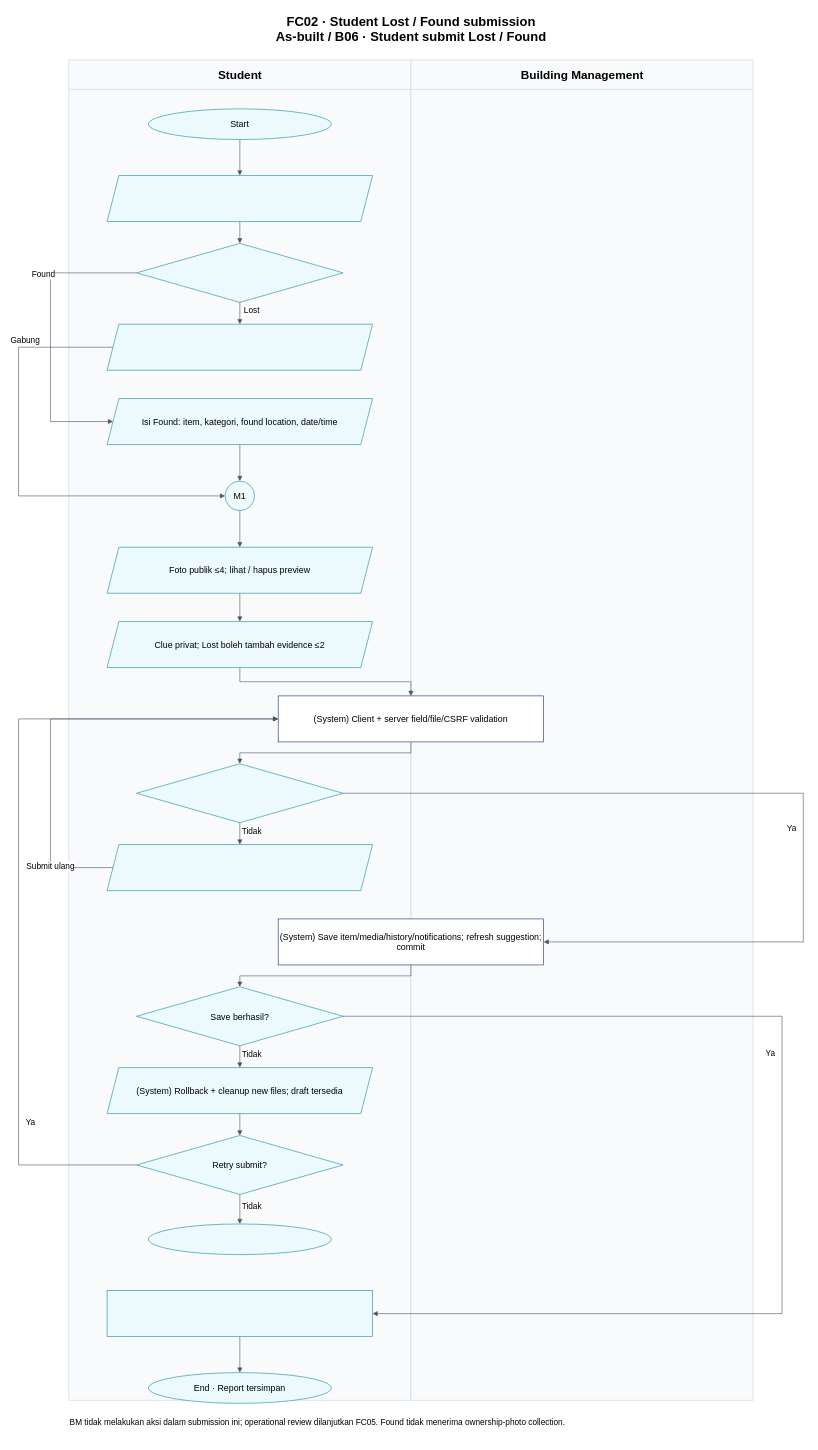
This 818x1450 diagram has some shape labels left out. The centre of each missing label's shape, as x and y in pixels:
End · Report belum tersimpan: the point at 239,1239
Error per field; perbaiki draft dan submit ulang: the point at 239,867
Input dan file valid?: the point at 239,793
Isi Lost: item, kategori, last seen, date/time: the point at 239,347
Jenis report?: the point at 239,272
Lihat My Activity, detail, possible matches dan status: the point at 239,1313
Student login: pilih Report Lost / Found: the point at 239,198
